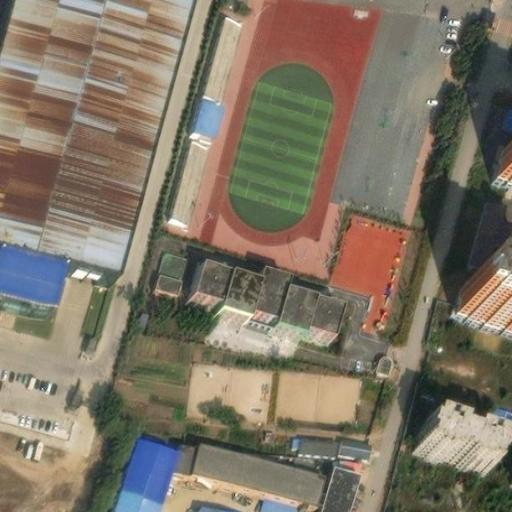building: (170, 11, 245, 215), (185, 260, 337, 334), (177, 435, 322, 496), (114, 434, 176, 512), (415, 414, 496, 466), (463, 199, 503, 271), (459, 270, 512, 321), (316, 461, 360, 512), (293, 427, 368, 455), (150, 248, 188, 297), (487, 139, 512, 183), (186, 500, 242, 512), (257, 498, 294, 512)
